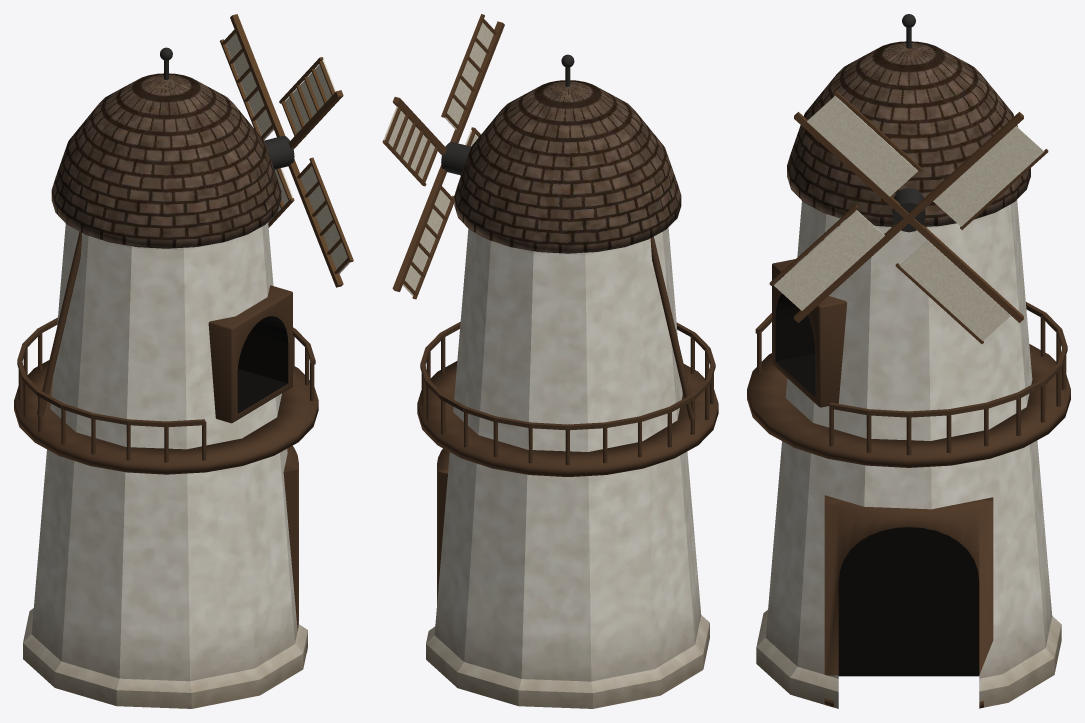
The model's file is windmill.glb.
3 renders of one model, left to right at view 1: azimuth 30°, elevation 25°; view 2: azimuth 150°, elevation 25°; view 3: azimuth 270°, elevation 25°, orthographic. The views are drawn at different scales.
Parts seen in each view (by area): view 1: mill, cap, stage, hole-frame, spars, sails, door-frame.002, hub; view 2: mill, cap, stage, spars, sails, door-frame.002, hub; view 3: mill, cap, sails, stage, door-frame.002, spars, hole-frame, hub.
Boxes of the visible parts, x1,y1,x2,y2 form: mill: (23, 222, 307, 708); cap: (51, 73, 281, 248); stage: (14, 231, 318, 474); hole-frame: (208, 285, 292, 423); spars: (220, 14, 353, 287); sails: (226, 33, 349, 274); door-frame.002: (283, 446, 307, 652); hub: (264, 136, 294, 169); mill: (426, 227, 709, 708); cap: (454, 80, 681, 253); stage: (417, 237, 718, 476); spars: (382, 14, 504, 299); sails: (383, 22, 493, 295); door-frame.002: (437, 448, 449, 603); hub: (441, 142, 470, 175); mill: (756, 199, 1061, 708); cap: (787, 41, 1030, 226); sails: (773, 96, 1044, 340); stage: (747, 302, 1070, 467); door-frame.002: (824, 495, 993, 708); spars: (769, 90, 1048, 343); hole-frame: (772, 259, 847, 407); hub: (892, 188, 925, 232).
Bounding box in the file's own units: 6.9 × 15 × 6.9.
9 materials, 3 textured.
